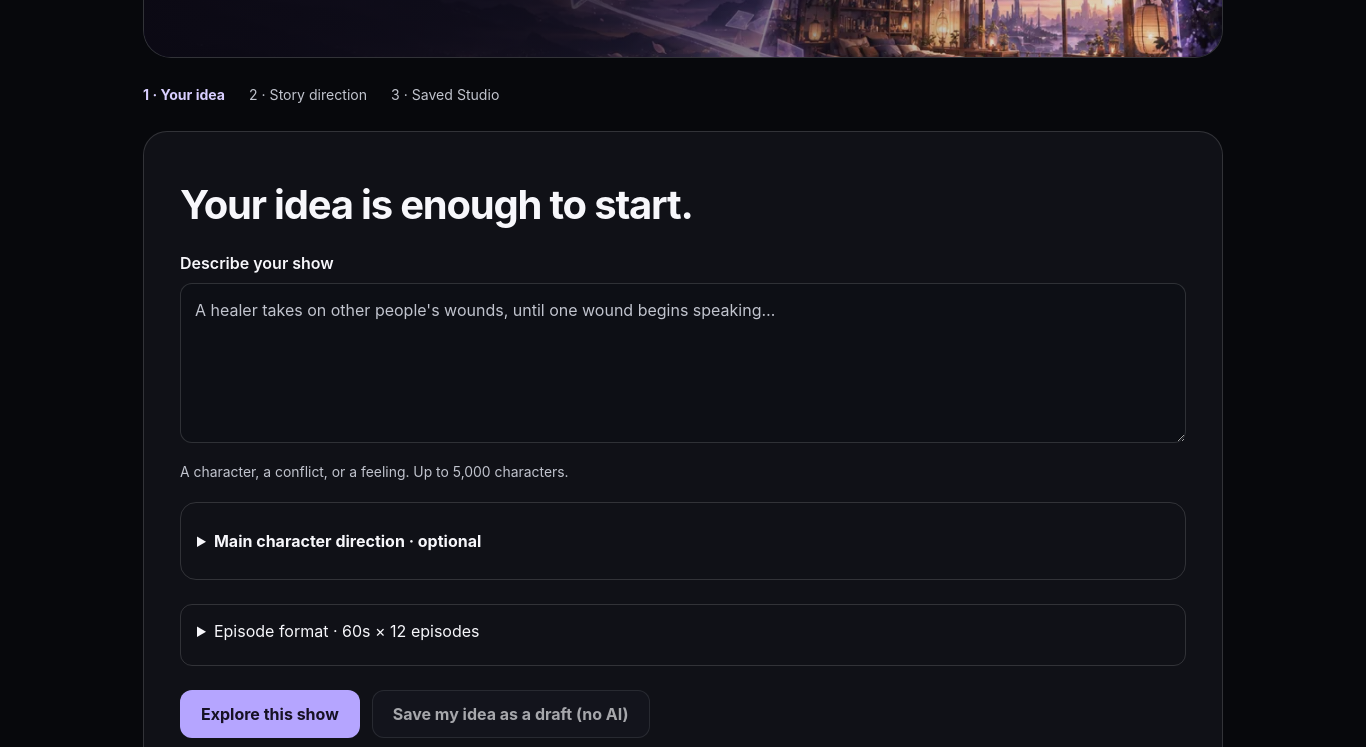
Test case: guided creation › prevents repeated clicks while developing
(page scrolled)
Replace the text in the text box labelled "Describe your show" with "A healer carries the wounds of others." at (683, 363), box left=180, top=283, right=1186, bottom=443
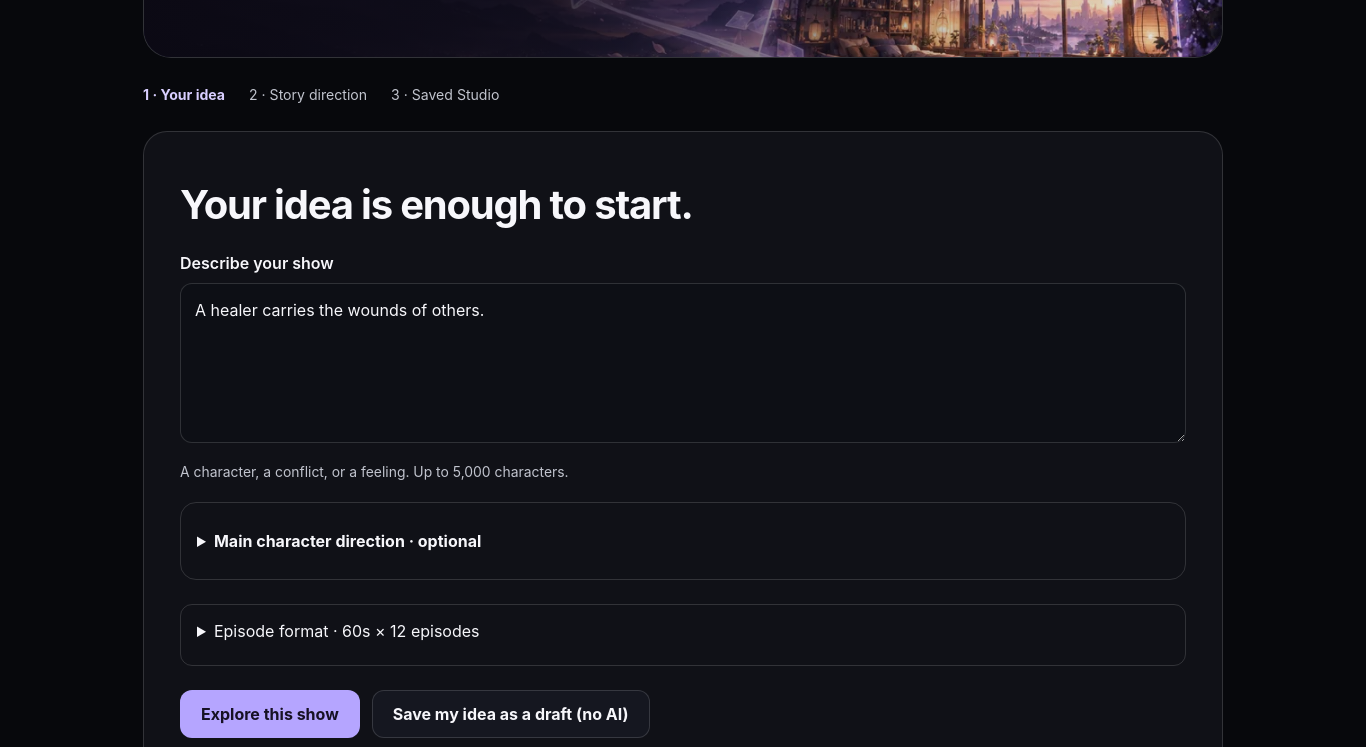
Click the button "Explore this show".
click(270, 714)  # box left=180, top=690, right=360, bottom=738
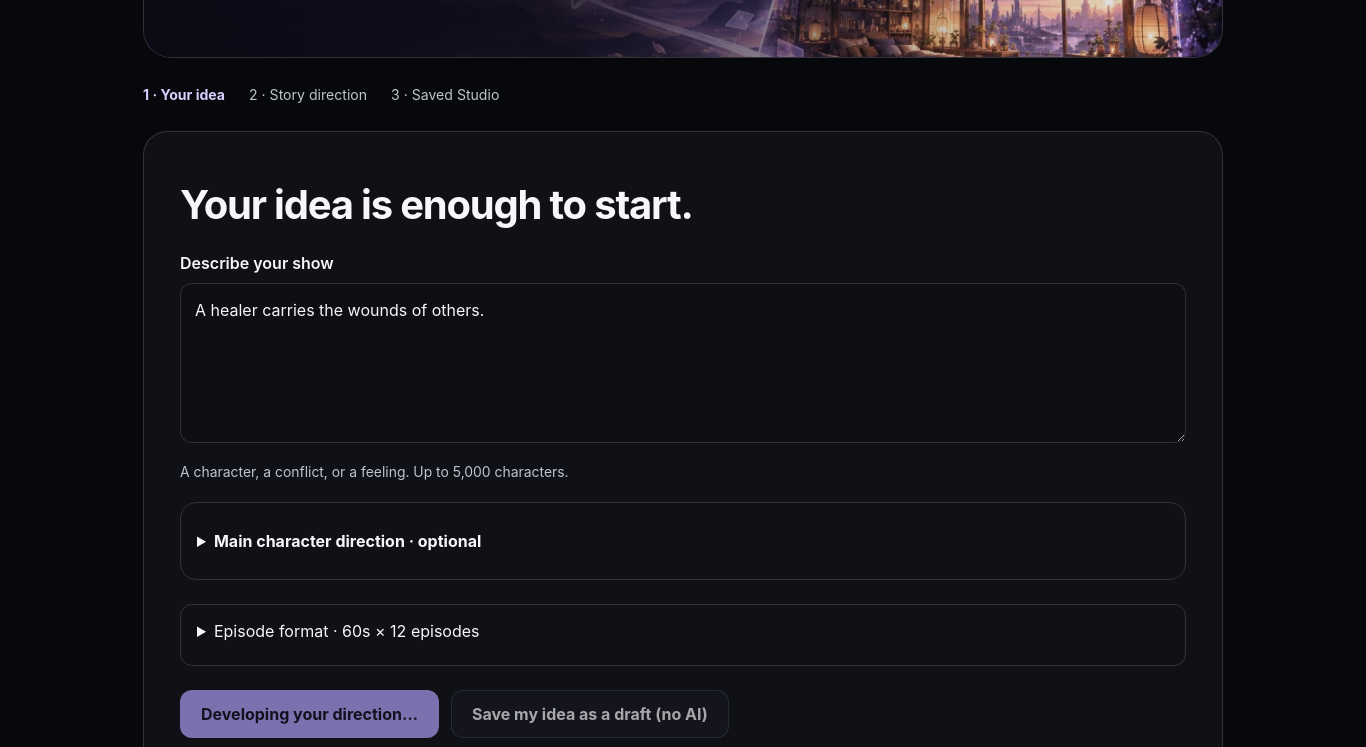
Click the button named "Explore this show".
click(310, 714)  # box left=180, top=690, right=439, bottom=738
(page scrolled)
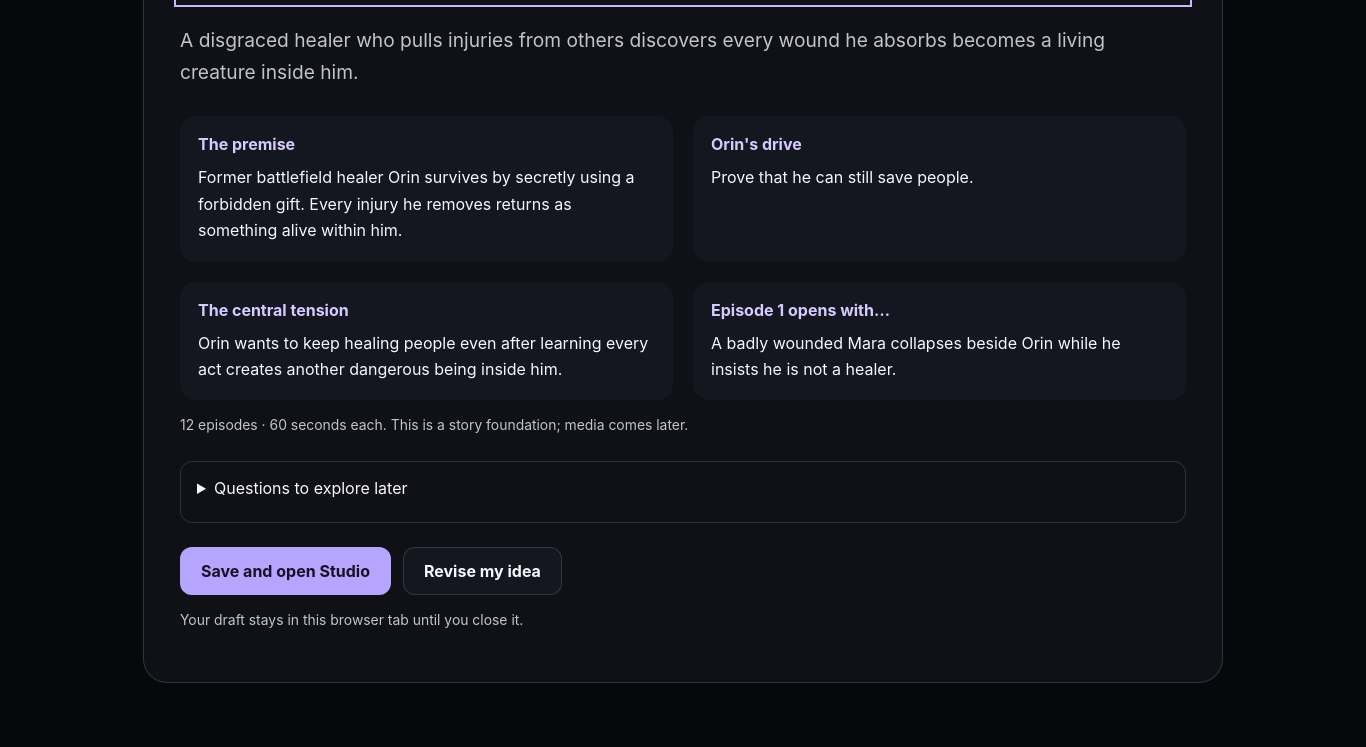
Expected: the button "Save and open Studio" is shown, left=180, top=547, right=391, bottom=595
